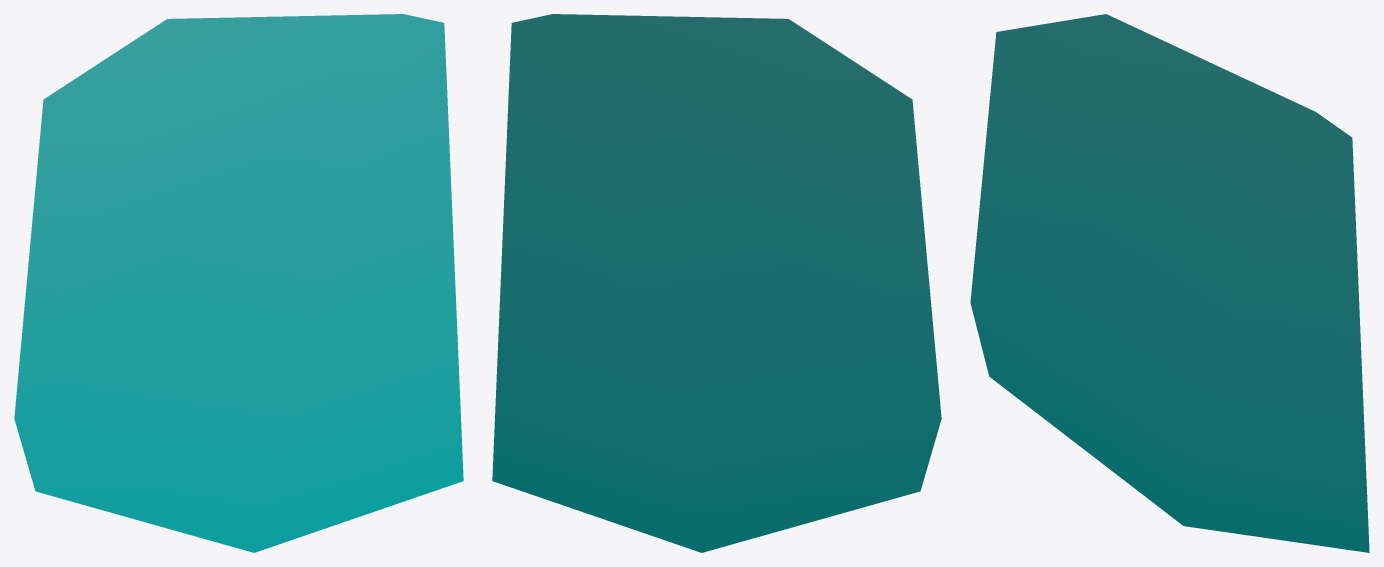
File: Field_Poppy_vmcobd0ja_Low_vmcobd0ja_VarB_LOD2.fbx
3 views of the same model, side by side, from view 1: azimuth 30°, elevation 25°; view 2: azimuth 150°, elevation 25°; view 3: azimuth 330°, elevation 25° (orthographic). The views are drawn at different scales.
Visible parts, largest first — view 1: _6qo8_VarB_LOD4; view 2: _6qo8_VarB_LOD4; view 3: _6qo8_VarB_LOD4.
Part boxes in pixels (bbox=[...]): _6qo8_VarB_LOD4: bbox=[14, 14, 463, 552]; _6qo8_VarB_LOD4: bbox=[492, 14, 941, 552]; _6qo8_VarB_LOD4: bbox=[970, 14, 1369, 552].
Bounding box in the file's own units: 40.09 × 47.34 × 0.
